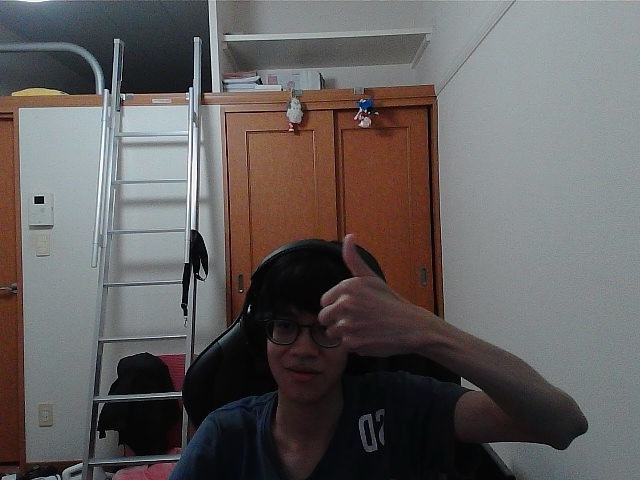thumb_up: (323, 244, 405, 344)
